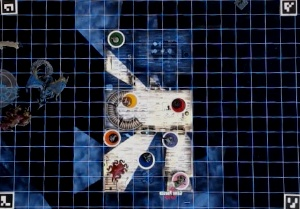blue: (136, 148, 157, 169)
green: (107, 29, 125, 48)
orange: (104, 127, 123, 147)
pink: (172, 169, 191, 191)
red: (169, 94, 189, 113)
violet: (162, 128, 178, 147)
yellow: (121, 91, 138, 108)
